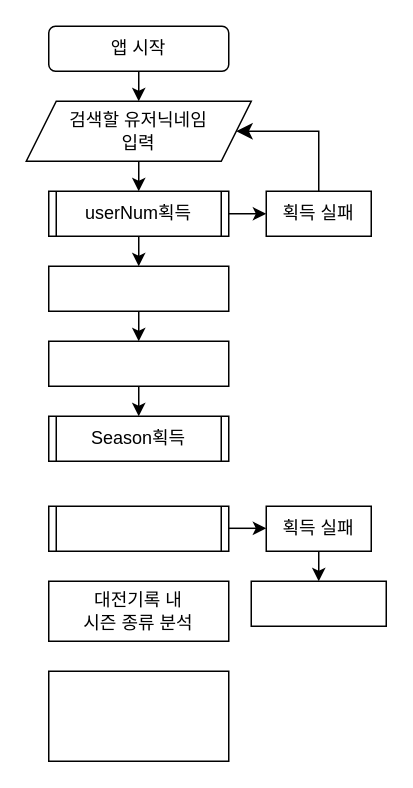
Some shapes in this 413 by 788 pixel diagram are drawn without their labels. Here are the shapes that lost their labels. From the top down, the centre of each, then its label:
At (138,288): "액티비티 변경".
At (138,363): "캐릭터ID파일 읽기".
At (138,528): "대전기록 획득".
At (318,603): "기록 없음 표시".
